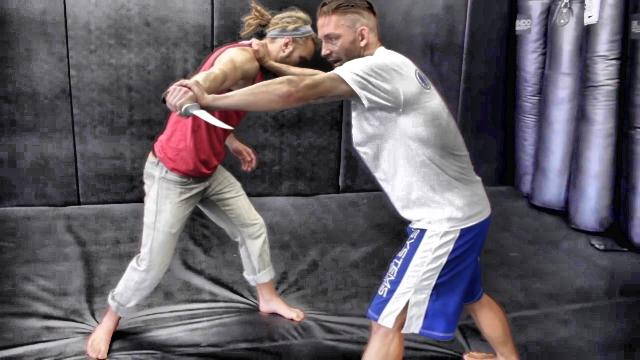knife: (160, 88, 240, 134)
